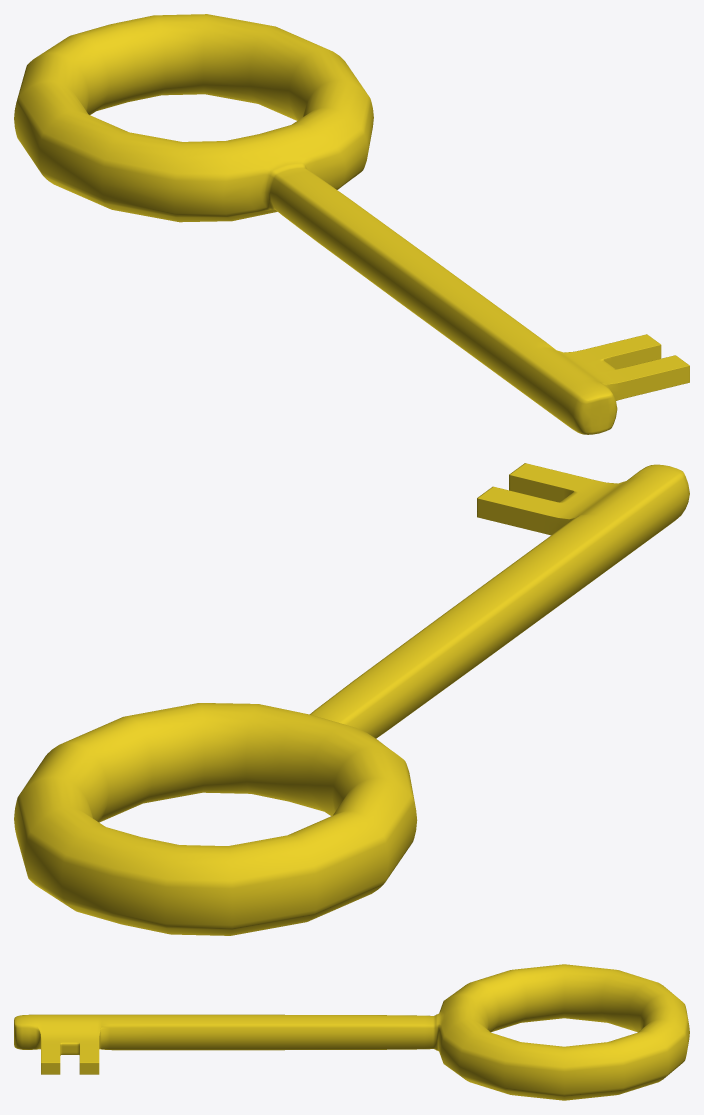
Rendered from Key_low.fbx.
The picture shows the model from 3 angles, top to bottom: view 1: azimuth 30°, elevation 25°; view 2: azimuth 150°, elevation 25°; view 3: azimuth 270°, elevation 25°; orthographic projection. The views are drawn at different scales.
Visible parts, largest first — view 1: Key_low; view 2: Key_low; view 3: Key_low.
Part boxes in pixels (<box>): Key_low: <box>14,14,689,434</box>; Key_low: <box>14,463,689,935</box>; Key_low: <box>14,964,689,1100</box>.
Size of the model in its own units: 18.36 by 4.25 by 51.34.
